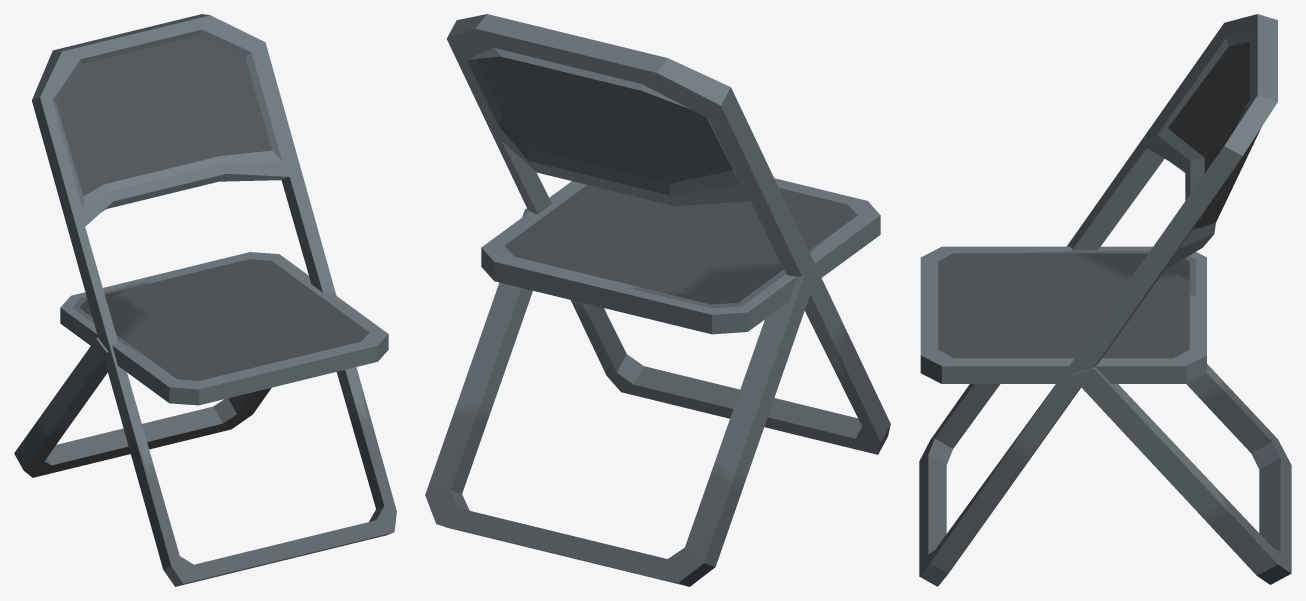
The model's file is SM_Prop_Chair_Metal_01.glb.
The picture shows the model from 3 angles, left to right: view 1: azimuth 30°, elevation 25°; view 2: azimuth 150°, elevation 25°; view 3: azimuth 270°, elevation 25°; orthographic projection. The views are drawn at different scales.
Parts seen in each view (by area): view 1: SM_Prop_Chair_Metal_01; view 2: SM_Prop_Chair_Metal_01; view 3: SM_Prop_Chair_Metal_01.
Boxes of the visible parts, left/top/right/bottom form: SM_Prop_Chair_Metal_01: left=14, top=14, right=396, bottom=586; SM_Prop_Chair_Metal_01: left=425, top=14, right=890, bottom=586; SM_Prop_Chair_Metal_01: left=919, top=14, right=1291, bottom=586.
Size of the model in its own units: 0.5865 by 1.04 by 0.7368.
Materials: 1 (1 with a texture image).
